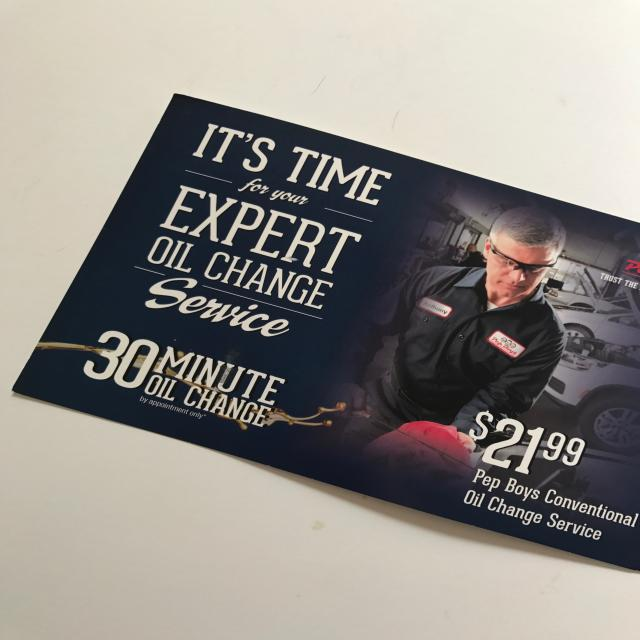paper: (0, 72, 640, 594)
